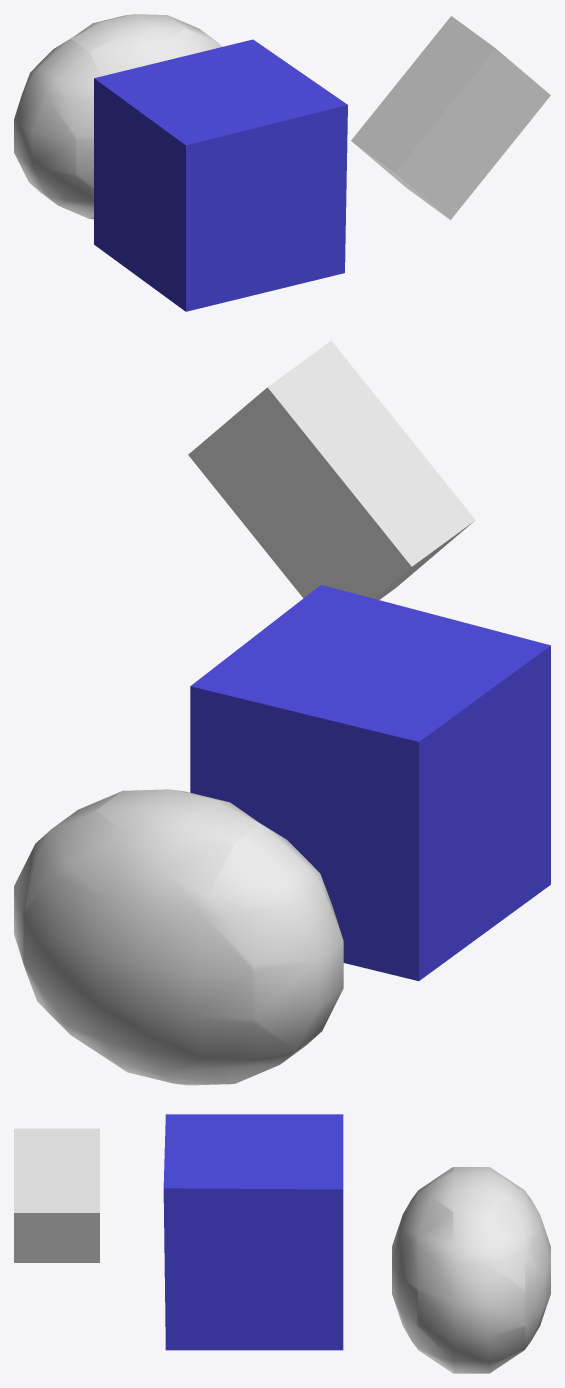
Rendered from my-thing.glb.
The picture shows the model from 3 angles, top to bottom: view 1: azimuth 30°, elevation 25°; view 2: azimuth 150°, elevation 25°; view 3: azimuth 270°, elevation 25°; orthographic projection. The views are drawn at different scales.
Visible parts, largest first — view 1: Cube, Cube.001, Mball.001; view 2: Cube, Mball.001, Cube.001; view 3: Cube, Mball.001, Cube.001.
Part boxes in pixels (x1=…): Cube: x1=94, y1=39, x2=347, y2=311; Cube.001: x1=351, y1=16, x2=550, y2=219; Mball.001: x1=14, y1=14, x2=222, y2=219; Cube: x1=190, y1=585, x2=550, y2=981; Mball.001: x1=14, y1=789, x2=343, y2=1085; Cube.001: x1=188, y1=340, x2=475, y2=599; Cube: x1=163, y1=1114, x2=343, y2=1350; Mball.001: x1=392, y1=1167, x2=550, y2=1373; Cube.001: x1=14, y1=1128, x2=99, y2=1262.
Bounding box in the file's own units: 3.66 × 3.64 × 6.05.
